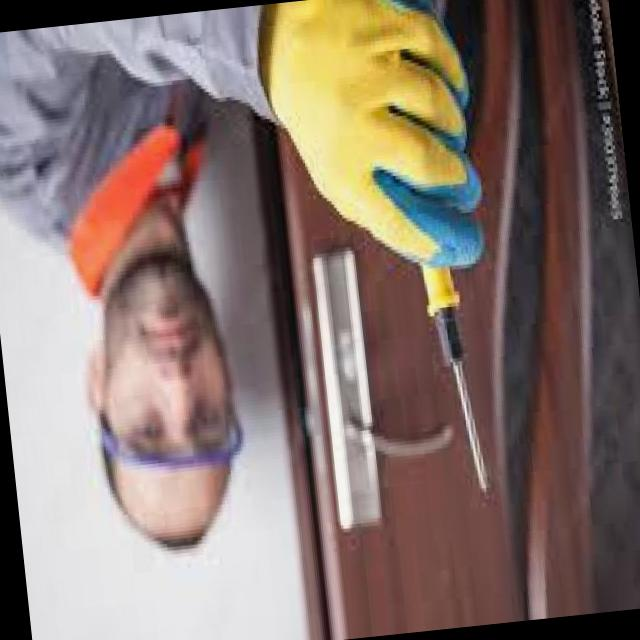screwdriver: (422, 266, 486, 494)
